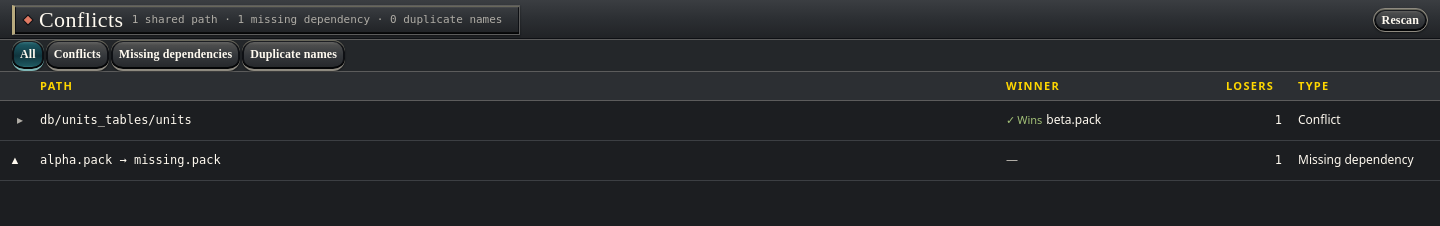
Test: ConflictScreen › renders the winner, loser, dependency, and per-mod summary
Expected: the heading "Conflicts" is shown, [39,8,124,30]
Expected: the text "db/units_tables/units" is shown, [32,100,998,140]
Click the button named "Expand losers": (20, 120) [8,108,32,132]
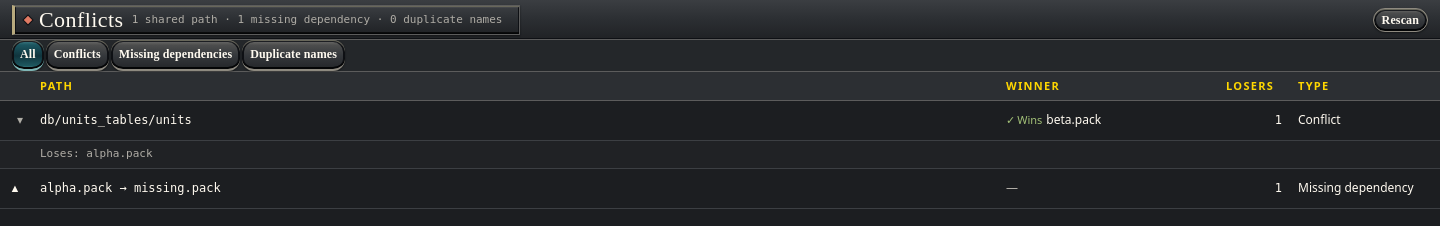
Expected: the text "Loses: alpha.pack" is shown, [32,140,1439,168]
